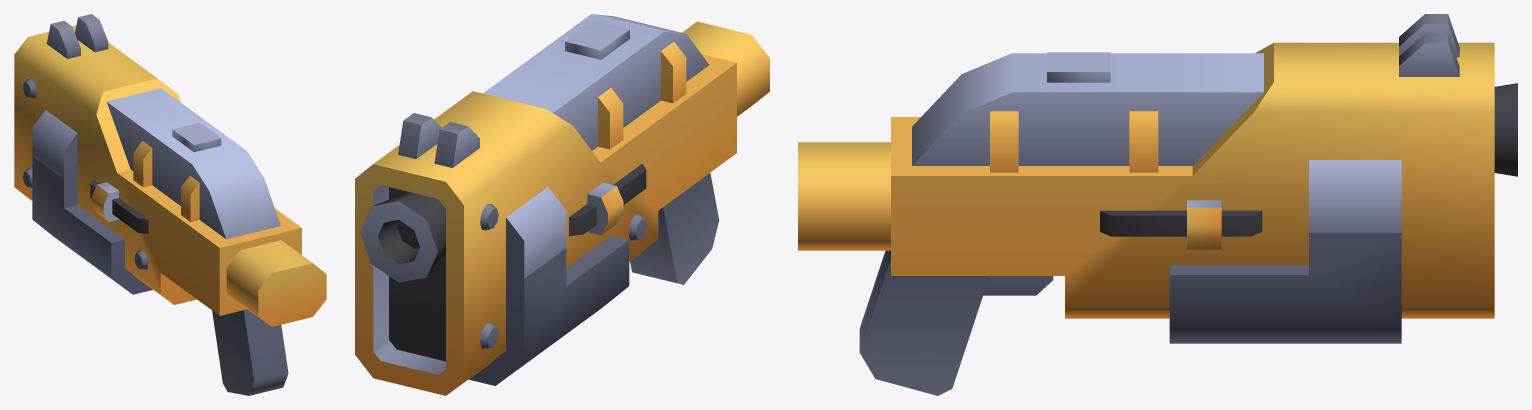
The model's file is kenney-blaster-blaster-m.glb.
The picture shows the model from 3 angles, left to right: view 1: azimuth 30°, elevation 25°; view 2: azimuth 150°, elevation 25°; view 3: azimuth 270°, elevation 25°; orthographic projection. The views are drawn at different scales.
Parts seen in each view (by area): view 1: blaster-m; view 2: blaster-m; view 3: blaster-m.
Part boxes in pixels (x1,y1,x2,y2): blaster-m: (14,14,326,395); blaster-m: (355,14,769,395); blaster-m: (798,14,1517,395).
Size of the model in its own units: 0.165 by 0.3374 by 0.6201.
1 material, 1 textured.
